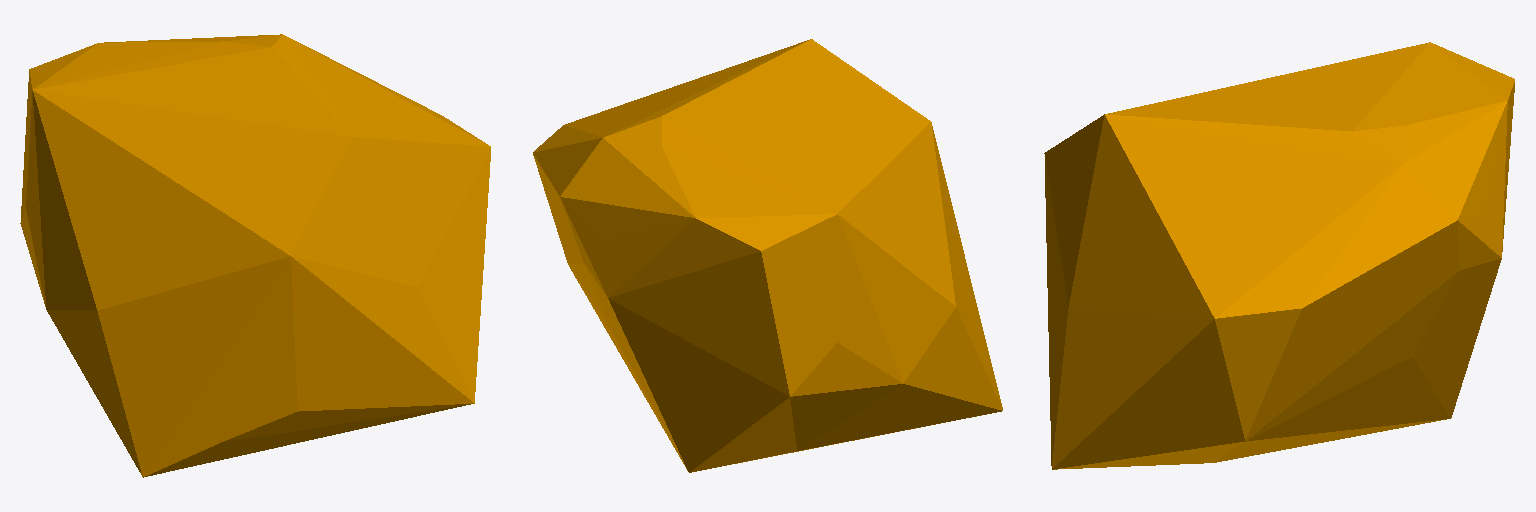
robot.urdf — 61_644:
<?xml version="1.0"?>
<robot name="61_644">
  <link name="link">
    <contact>
      <lateral_friction value="0.6"/>
    </contact>
    <inertial>
      <mass value = "0.4963123069499885"/>
      <inertia ixx="0.0002717843447447903" ixy="-2.256604249779598e-05" ixz="1.1831074576269286e-05" iyy="0.000260097638351535" iyz="2.8902851451527043e-05" izz="0.0003140823964442832" />
    </inertial>
    <visual name="visual">
      <geometry>
        <mesh filename="61_644.obj"/>
      </geometry>
    </visual>
    <collision name="collision">
      <geometry>
        <mesh filename="61_644.obj"/>
      </geometry>
    </collision>
  </link>
</robot>

--- Facts derived from the render (not from the file) ---
Views: 3 orthographic renders of the robot side by side, from view 1: azimuth 30°, elevation 25°; view 2: azimuth 150°, elevation 25°; view 3: azimuth 270°, elevation 25°.
Robot: 61_644 — 1 links, 0 joints (none); root link link; default pose: every joint at zero.
Visible links, largest first — view 1: link; view 2: link; view 3: link.
Link boxes in pixels (bbox=[...]): link: bbox=[20, 34, 490, 477]; link: bbox=[533, 39, 1002, 472]; link: bbox=[1044, 42, 1514, 469].
Bounding box of the posed robot: 0.0798 × 0.0763 × 0.0596 m (x, y, z).
1 mesh visuals loaded from 1 distinct referenced files (1 OBJ).
